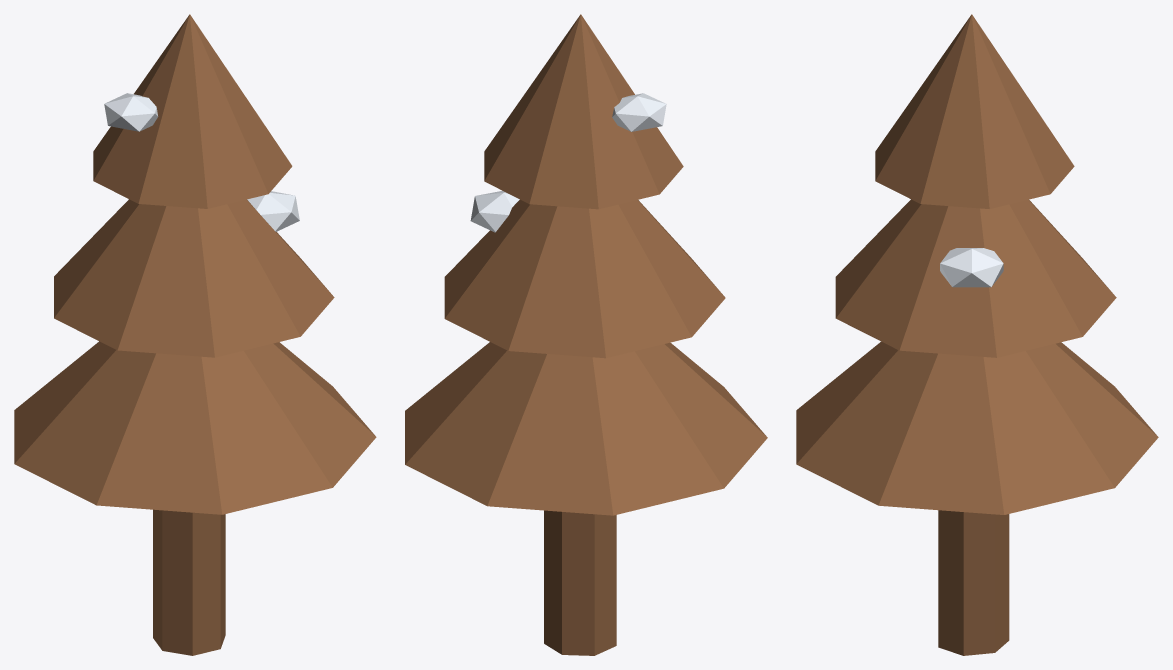
File: pine_sapling.fbx
3 renders of one model, left to right at view 1: azimuth 30°, elevation 25°; view 2: azimuth 150°, elevation 25°; view 3: azimuth 270°, elevation 25°, orthographic.
Visible parts, largest first — view 1: pine_sapling; view 2: pine_sapling; view 3: pine_sapling.
Part boxes in pixels (left/top/right/bottom): pine_sapling: left=14, top=14, right=376, bottom=655; pine_sapling: left=405, top=14, right=767, bottom=655; pine_sapling: left=796, top=14, right=1158, bottom=655.
Bounding box in the file's own units: 479 × 900 × 472.
